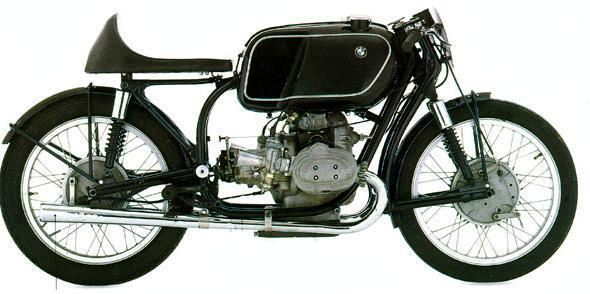motorcycle: (4, 1, 590, 290)
